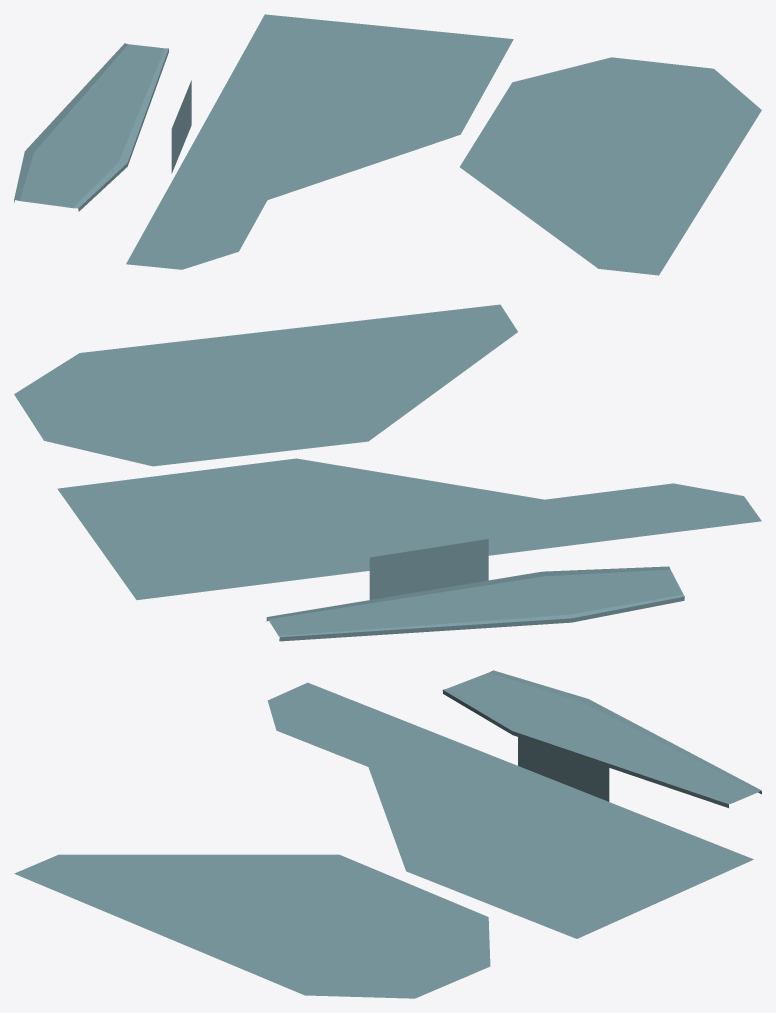
The model's file is environment modular.fbx.
The picture shows the model from 3 angles, top to bottom: view 1: azimuth 30°, elevation 25°; view 2: azimuth 150°, elevation 25°; view 3: azimuth 270°, elevation 25°; orthographic projection. The views are drawn at different scales.
Visible parts, largest first — view 1: polySurface114, polySurface78, bridge_low, wall_3; view 2: polySurface114, polySurface78, bridge_low, wall_3; view 3: polySurface114, polySurface78, bridge_low, wall_3.
Boxes of the visible parts, x1,y1,x2,y2 form: polySurface114: (126, 14, 513, 269); polySurface78: (460, 57, 761, 275); bridge_low: (14, 43, 168, 211); wall_3: (171, 80, 191, 173); polySurface114: (57, 458, 761, 599); polySurface78: (14, 304, 517, 466); bridge_low: (266, 566, 684, 641); wall_3: (369, 539, 488, 599); polySurface114: (267, 682, 753, 938); polySurface78: (14, 854, 490, 998); bridge_low: (442, 670, 761, 807); wall_3: (518, 733, 609, 801).
Bounding box in the file's own units: 7639 × 504 × 7399.
